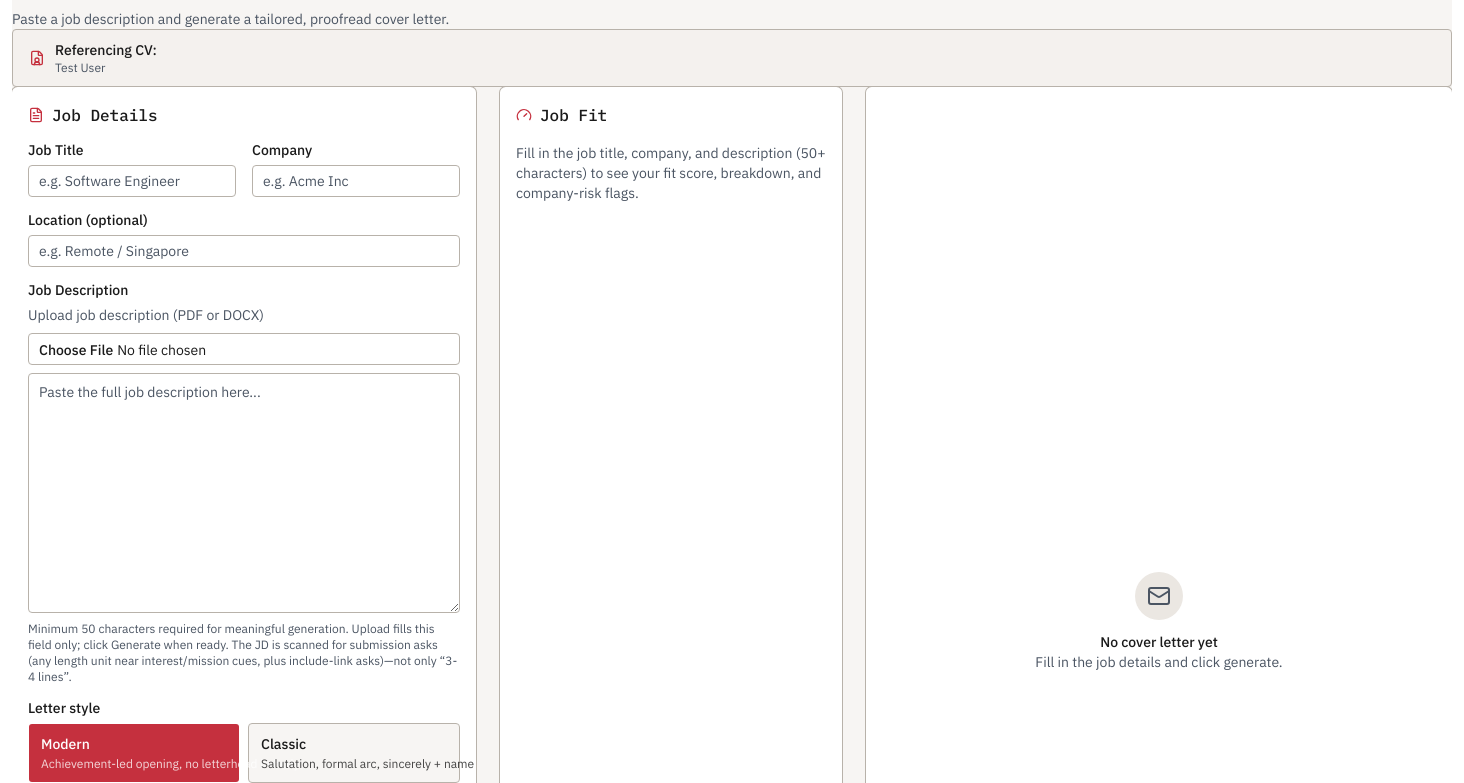
Test: CoverLetterPage › shows validation issues when the result needs revision
The width and height of the screenshot is (1464, 783).
Type "Senior Software Engineer" into the field labelled "Job Title" at coordinates (132, 181), box [28,165,236,197]
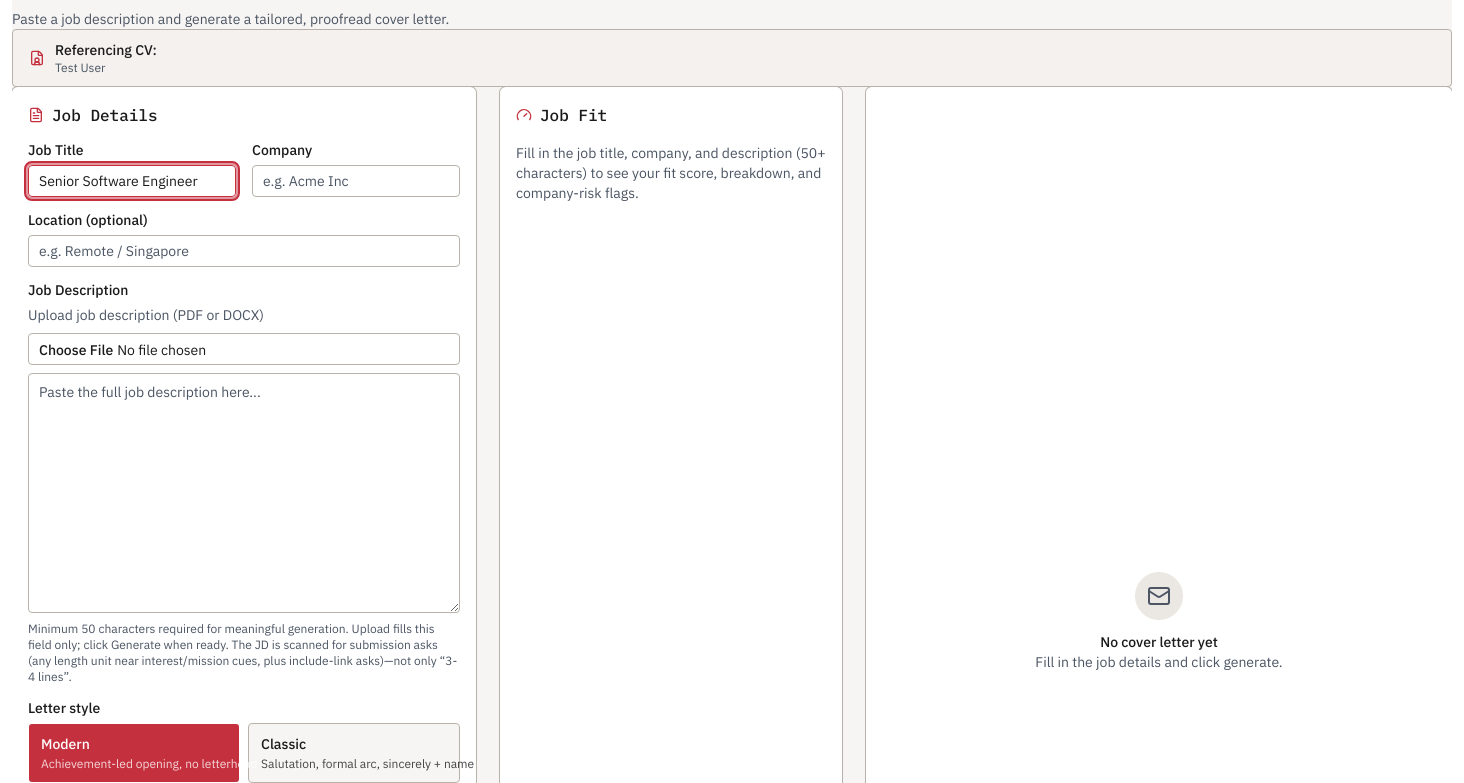
Type "Tech Innovations Inc" into the field labelled "Company" at coordinates (356, 181), box [252,165,460,197]
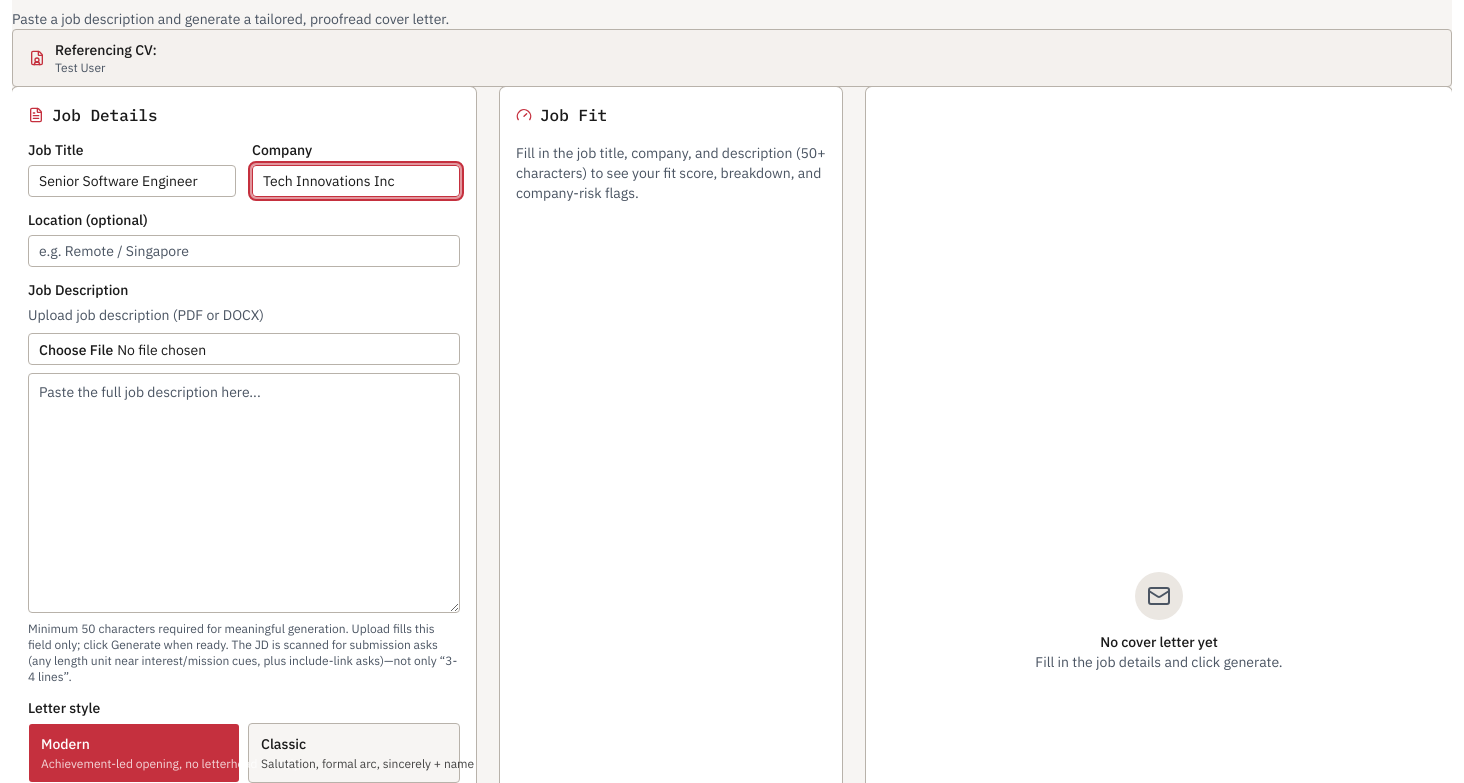
Type "We are seeking a talented Senior Software Engineer with React and TypeScript experience." into the text box labelled "Job Description" at coordinates (244, 493), box [28,373,460,613]
(page scrolled)
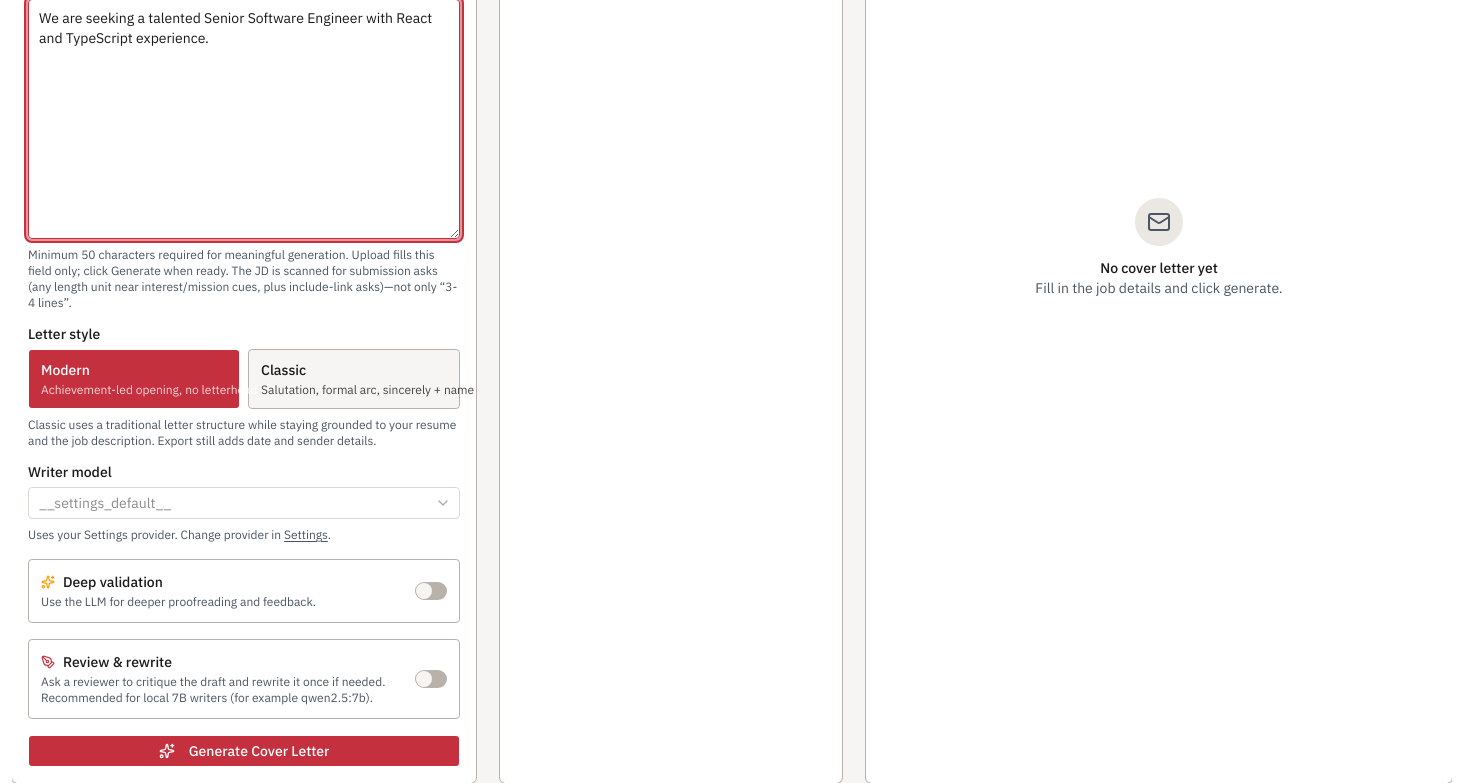
Click the button "Generate Cover Letter" at coordinates (244, 751), box [28,735,460,767]
(page scrolled)
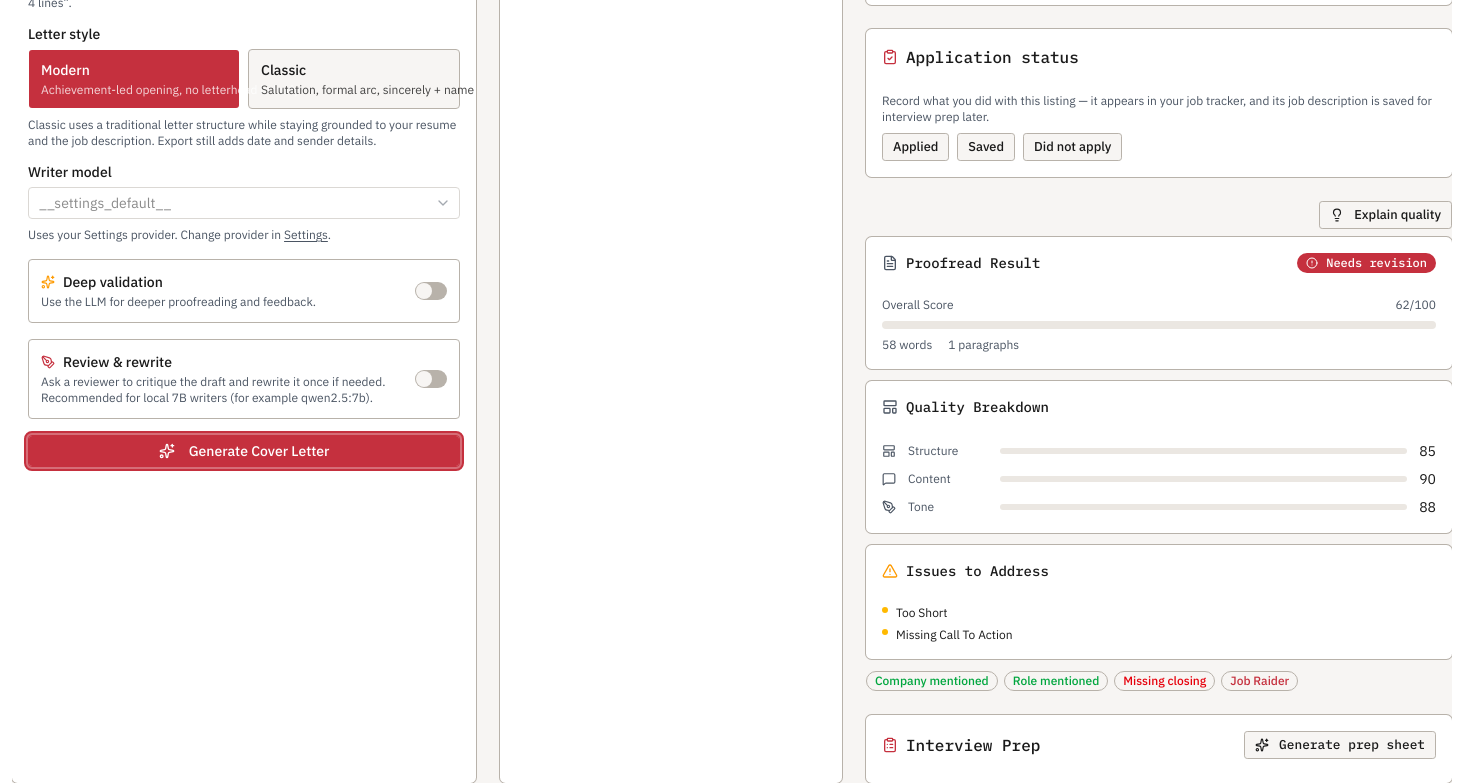
Now the text "Needs revision" is shown, box [1297,253,1436,273]
Now the list item "Too Short" is shown, box [882,605,948,620]
